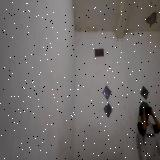Helmet: (140, 102, 150, 113)
